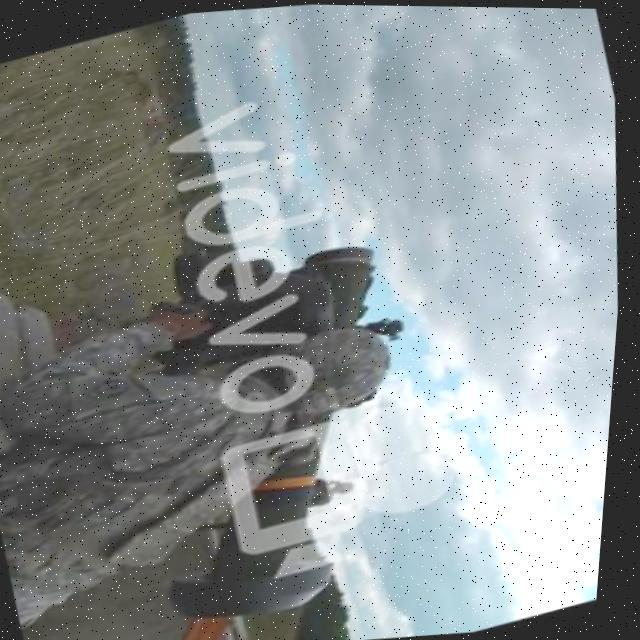rocket: (95, 235, 465, 639)
